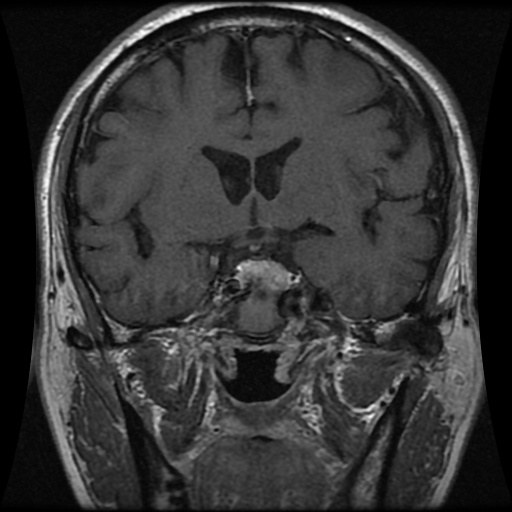pituitary: (236, 260, 294, 290)
